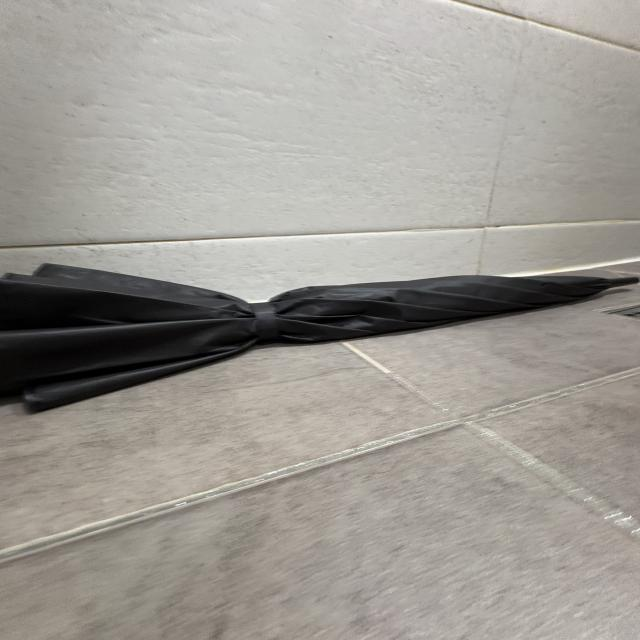umbrella: (0, 260, 640, 412)
